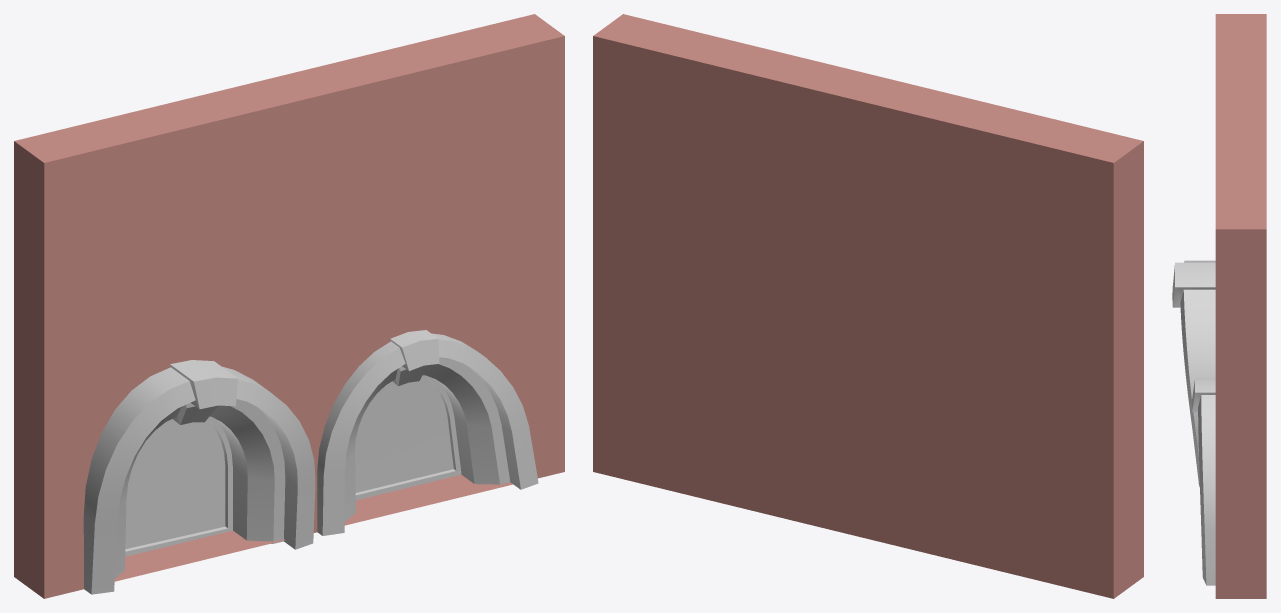
File: SM_Modular_Arches.fbx
The picture shows the model from 3 angles, left to right: view 1: azimuth 30°, elevation 25°; view 2: azimuth 150°, elevation 25°; view 3: azimuth 270°, elevation 25°; orthographic projection. The views are drawn at different scales.
Parts seen in each view (by area): view 1: Wall_5x4.008, Bool.005, Bool.004; view 2: Wall_5x4.008; view 3: Wall_5x4.008, Bool.005, Bool.004.
Boxes of the visible parts, x1,y1,x2,y2 form: Wall_5x4.008: [14, 14, 564, 598]; Bool.005: [83, 360, 315, 594]; Bool.004: [317, 330, 538, 535]; Wall_5x4.008: [593, 14, 1143, 598]; Wall_5x4.008: [1215, 14, 1266, 598]; Bool.005: [1172, 260, 1215, 487]; Bool.004: [1192, 377, 1215, 585].
Size of the model in its own units: 500 by 403 by 92.39.
